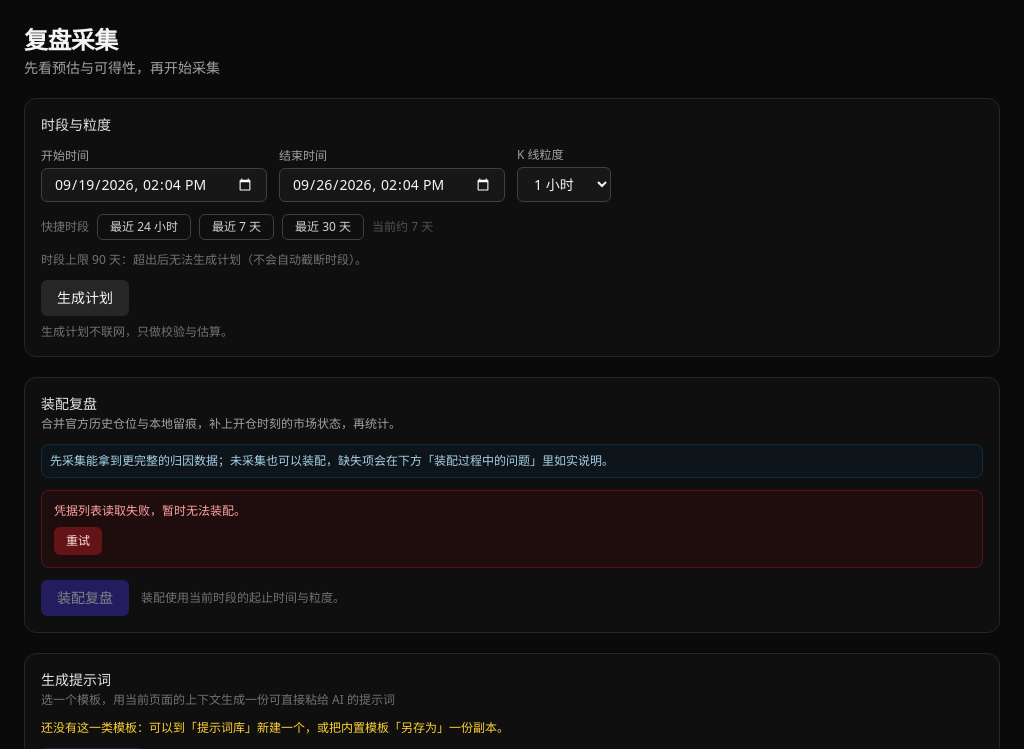
ReviewPage › RangeTooLarge 错误展示为友好提示，而不是原始错误码
What coordinates should you click on to do the following:
click the button "生成计划"
I would click on:
 (85, 298)
Its box is [41,280,129,316].
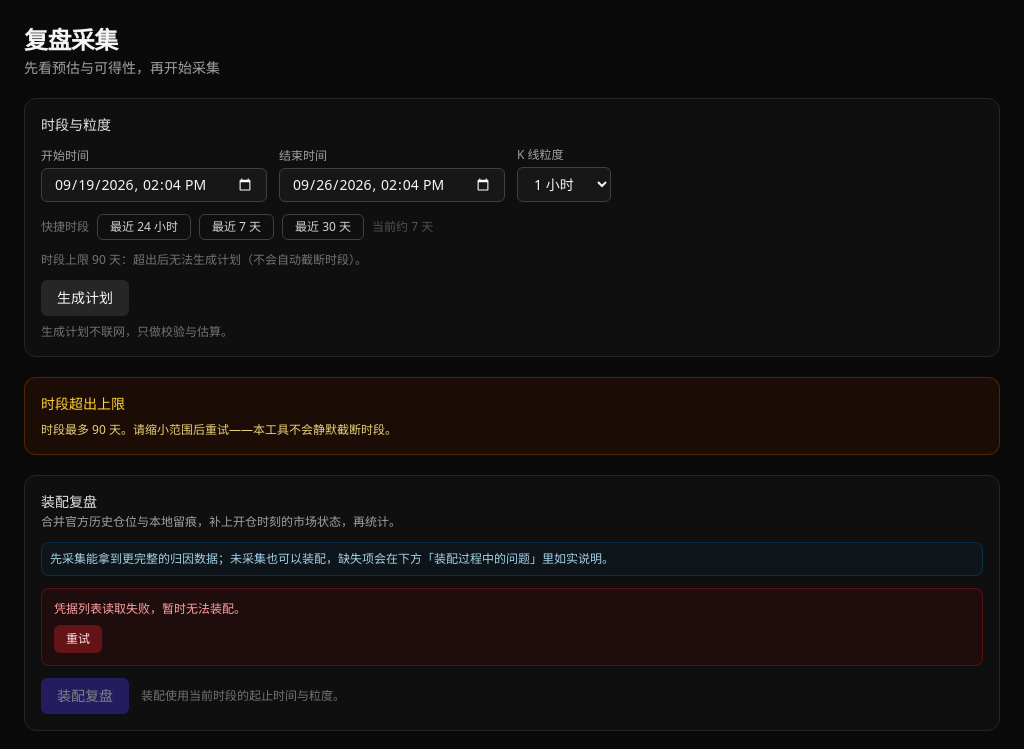
Check: the text "时段超出上限" is shown, box [41,394,125,413]
Check: the text "时段最多 90 天。请缩小范围后重试——本工具不会静默截断时段。" is shown, box [41,421,397,438]
